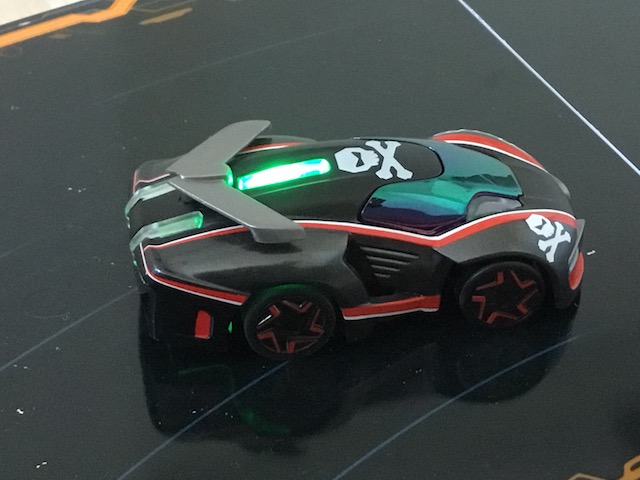car-red: (122, 114, 591, 366)
